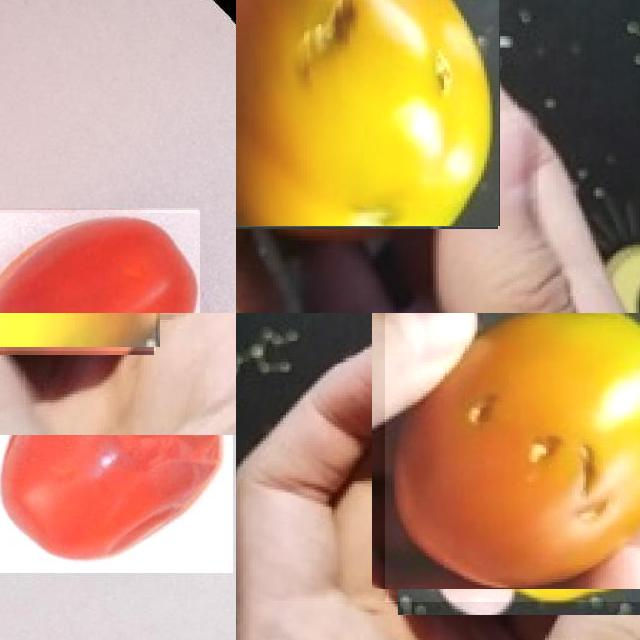1: (0, 210, 200, 313)
Rotten Tomato: (385, 313, 640, 602), (236, 0, 499, 227), (0, 435, 232, 573)
